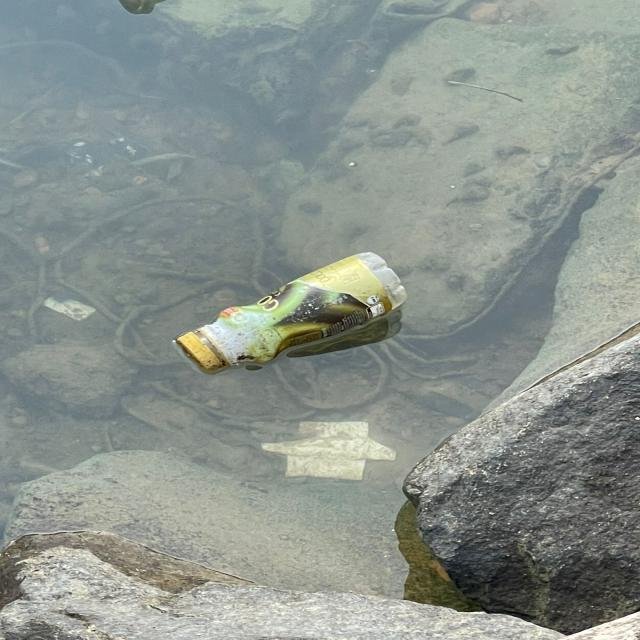Botol Plastik: (172, 248, 425, 379)
